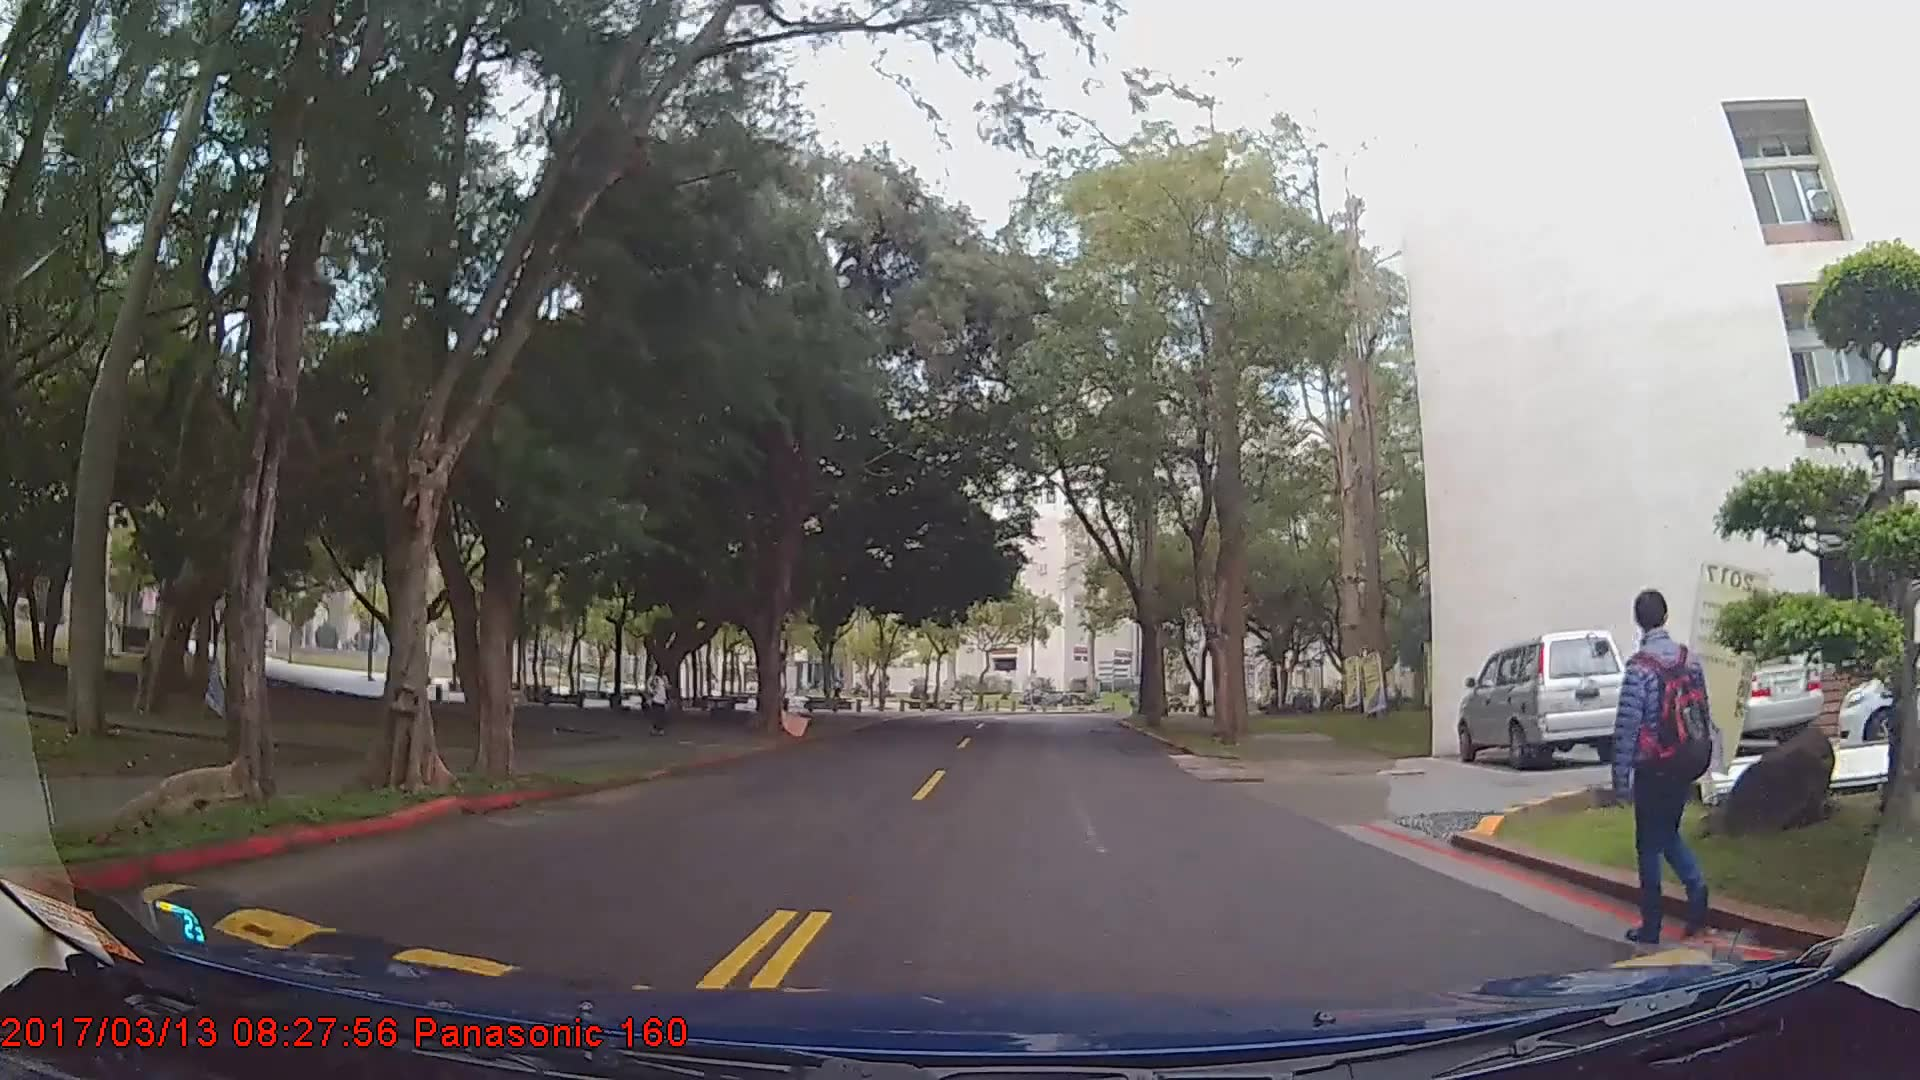pedestrian: (1607, 586, 1721, 939), (645, 662, 675, 737)
vehicle: (1457, 625, 1629, 767)
